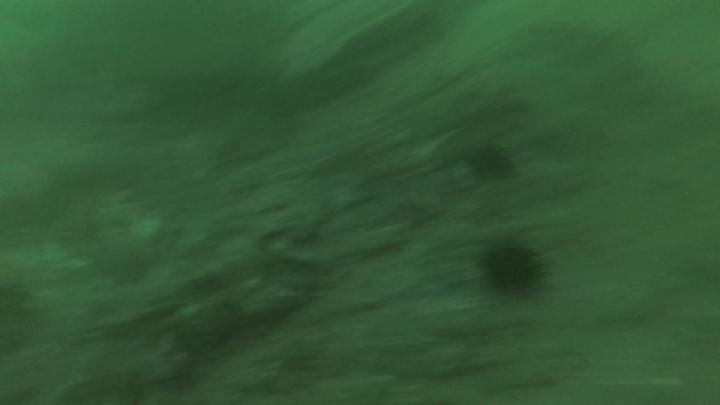echinus: (485, 245, 540, 295), (473, 146, 512, 184)
